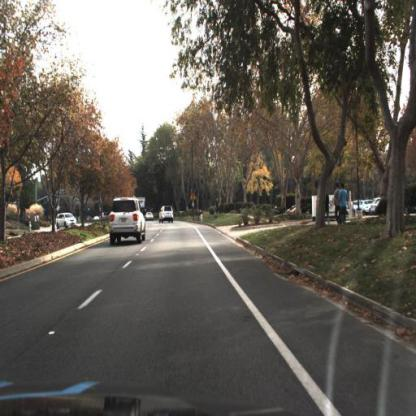car: (108, 196, 146, 247), (54, 211, 81, 231), (158, 205, 176, 224)
pedestrian: (341, 182, 351, 225), (323, 192, 332, 229)
